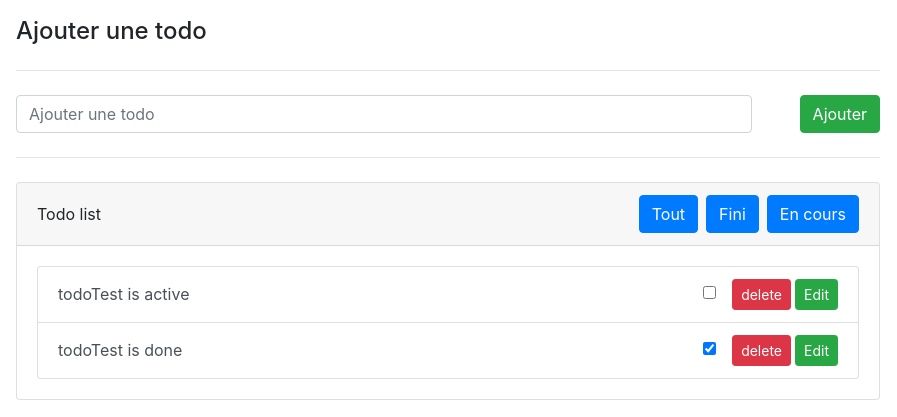
Scenario: <App /> › should display not done todos on /todos/active
Check: the heading "Ajouter une todo" is shown, box x1=16 y1=16 x2=207 y2=45
Click the link "En cours": [813, 214] box x1=767 y1=195 x2=859 y2=233
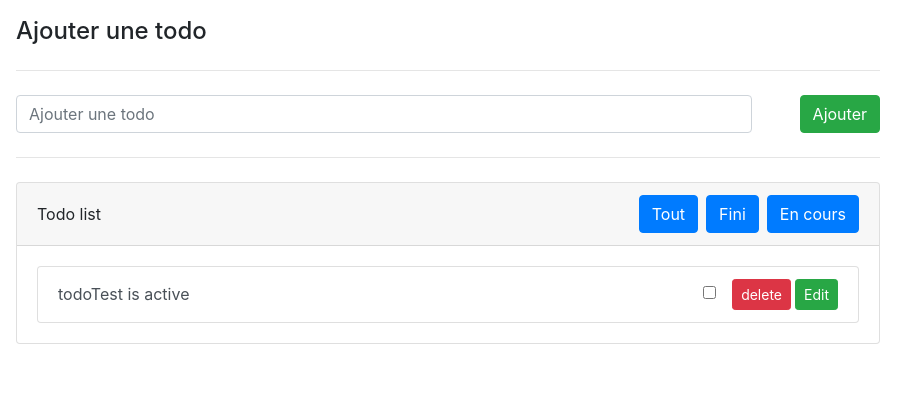
Check: the text "todoTest is active" is shown once, box x1=58 y1=282 x2=190 y2=306
Check: the text "is done" is gone
